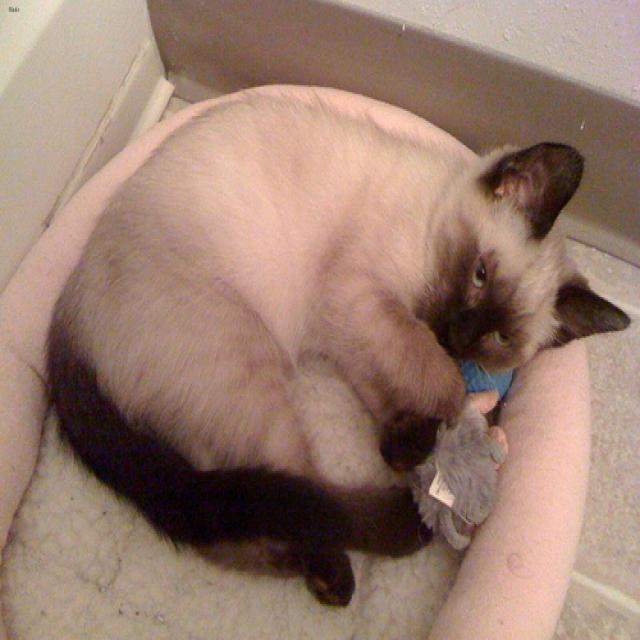Siamese: (412, 140, 629, 369)
